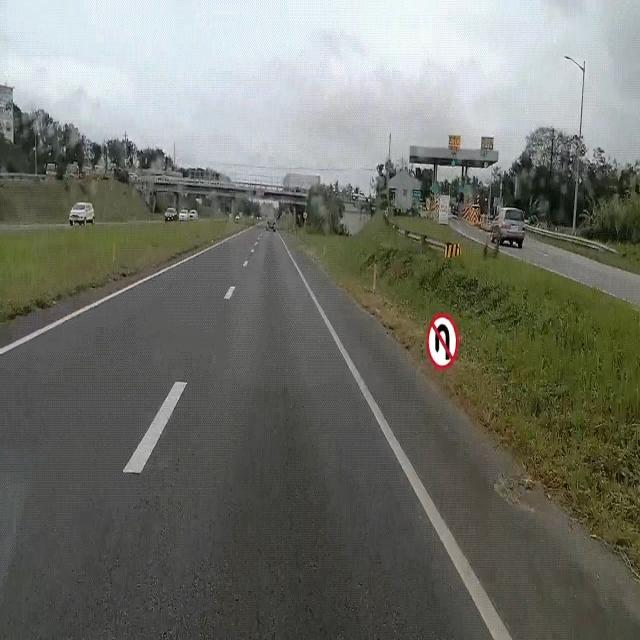Demi-Tour-Interdit: (426, 308, 460, 378)
